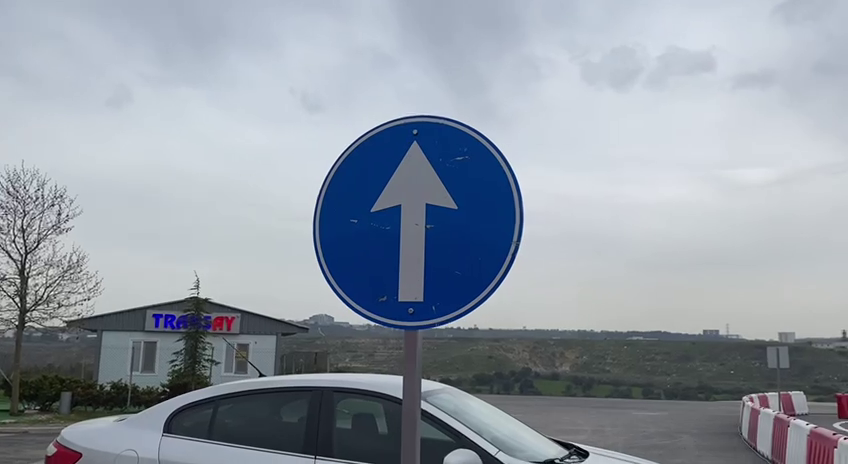forward: (308, 110, 531, 335)
